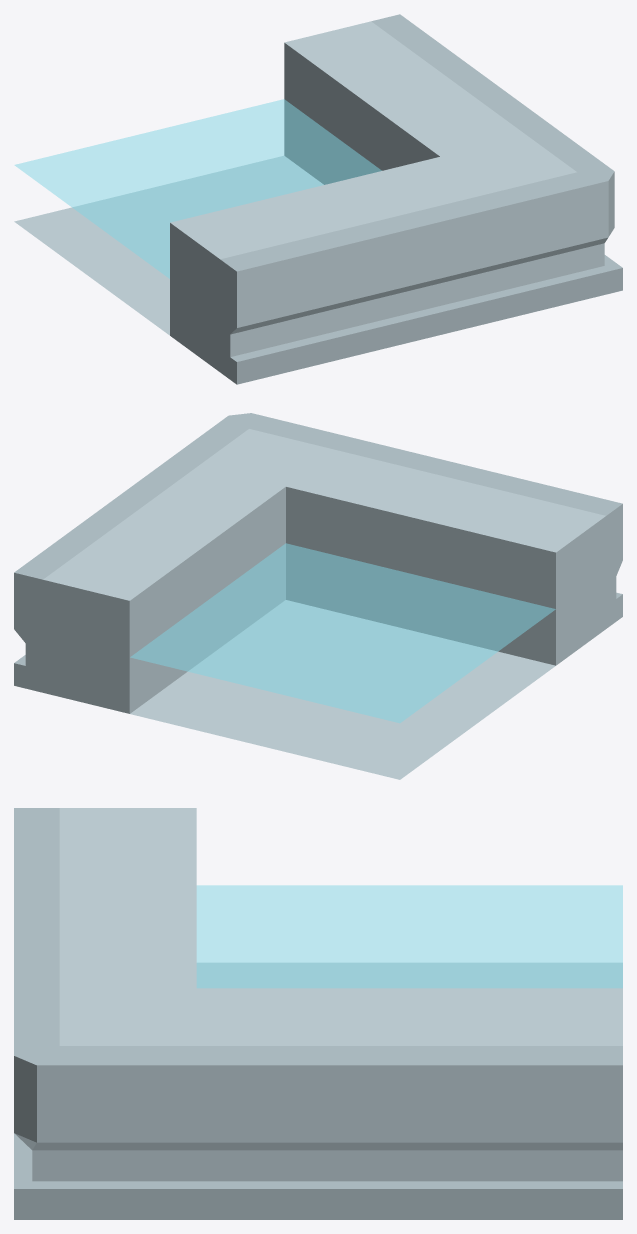
File: fountainCorner.glb
The picture shows the model from 3 angles, top to bottom: view 1: azimuth 30°, elevation 25°; view 2: azimuth 150°, elevation 25°; view 3: azimuth 270°, elevation 25°; orthographic projection. The views are drawn at different scales.
Visible parts, largest first — view 1: fountainCorner; view 2: fountainCorner; view 3: fountainCorner.
Part boxes in pixels (left/top/right/bottom): fountainCorner: left=14, top=14, right=622, bottom=384; fountainCorner: left=14, top=413, right=622, bottom=779; fountainCorner: left=14, top=808, right=622, bottom=1219.
Bounding box in the file's own units: 1 × 0.28 × 1.
